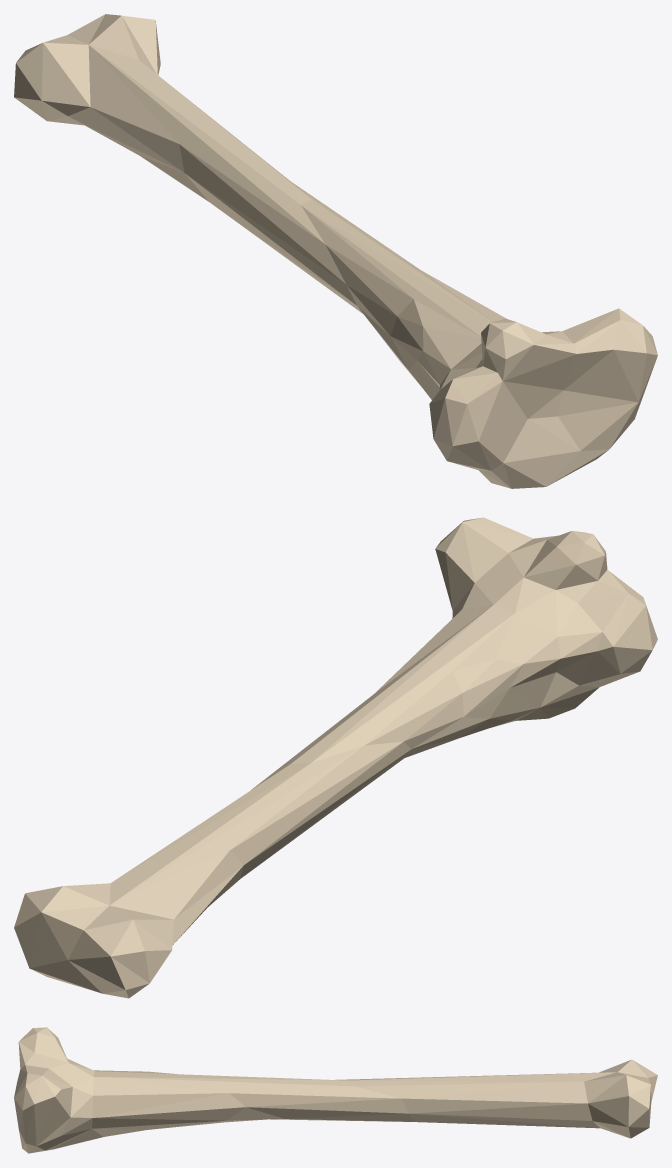
File: bone_1.fbx
3 renders of one model, top to bottom at view 1: azimuth 30°, elevation 25°; view 2: azimuth 150°, elevation 25°; view 3: azimuth 270°, elevation 25°, orthographic. The views are drawn at different scales.
Visible parts, largest first — view 1: bone_1; view 2: bone_1; view 3: bone_1.
Boxes of the visible parts, x1=… form: bone_1: x1=14, y1=14, x2=657, y2=488; bone_1: x1=14, y1=517, x2=657, y2=998; bone_1: x1=14, y1=1027, x2=657, y2=1153.
Size of the model in its own units: 0.1225 by 0.0941 by 0.4865.
